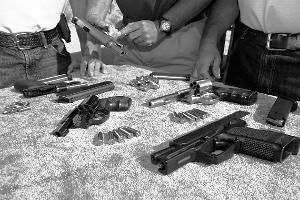handgun: (154, 110, 296, 178), (44, 96, 142, 138), (70, 7, 142, 63), (50, 76, 116, 104), (145, 86, 261, 101), (13, 72, 75, 94)
